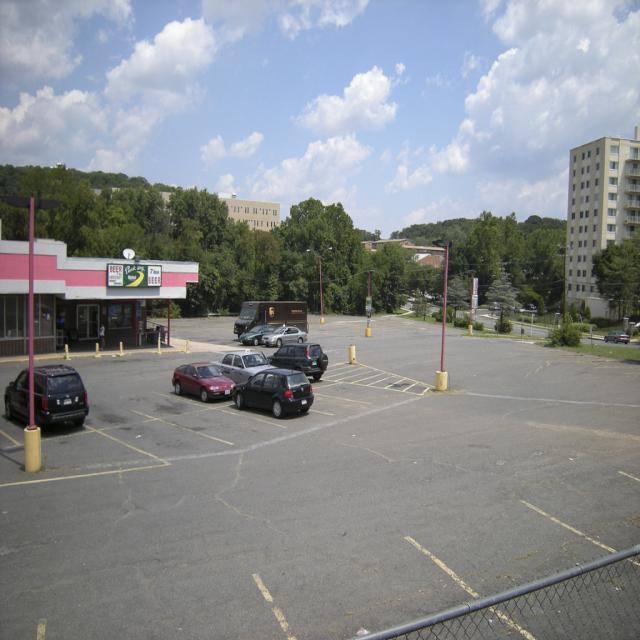car: (225, 364, 313, 419), (171, 358, 236, 400), (604, 328, 628, 342)
